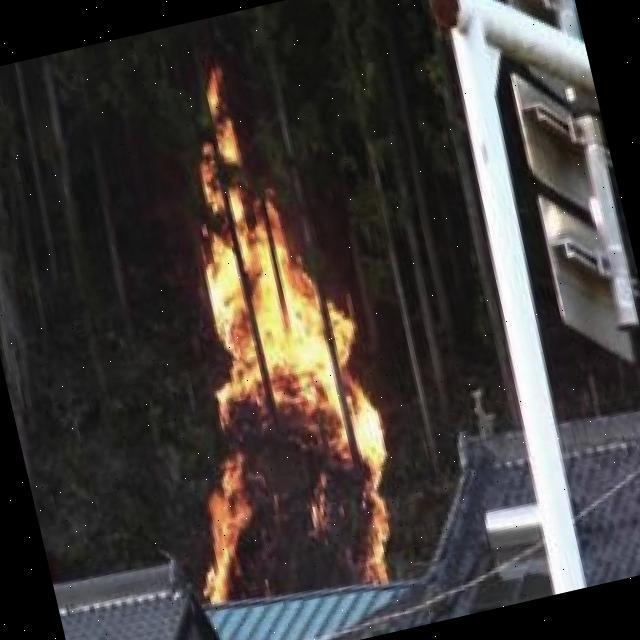fire: (100, 46, 415, 617)
